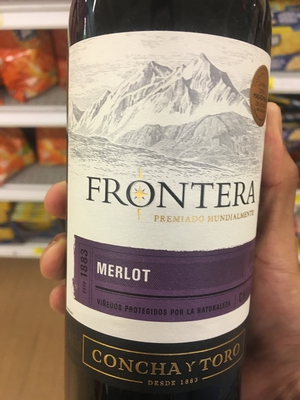frontera merlot: (67, 8, 277, 395)
